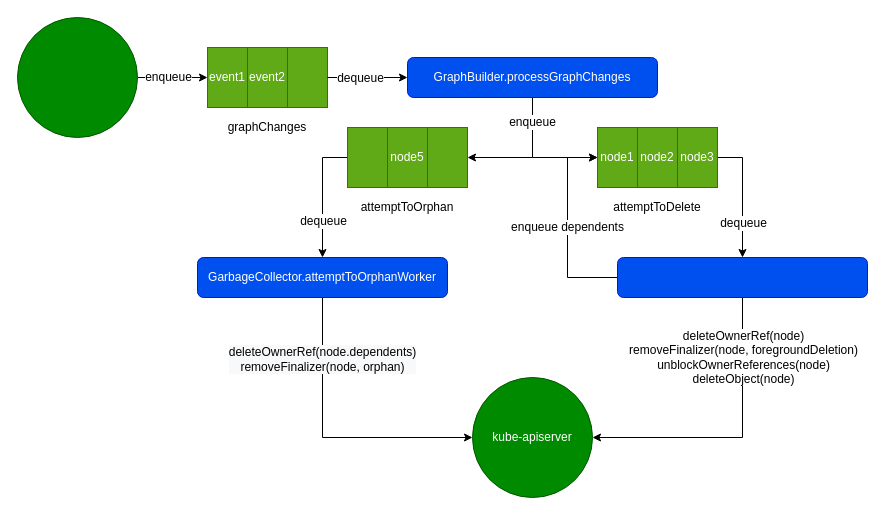
The diagram is 885 pixels wide and 515 high, and some of its shapes have lost their labels. Here are the shapes that lost their labels. From the top down, the centre of each, then its label:
At (x=77, y=77): "Resource Add/Update/Delete Event".
At (x=307, y=77): "event3".
At (x=367, y=157): "node6".
At (x=447, y=157): "node4".
At (x=742, y=277): "GarbageCollector.attemptToDeleteWorker".
